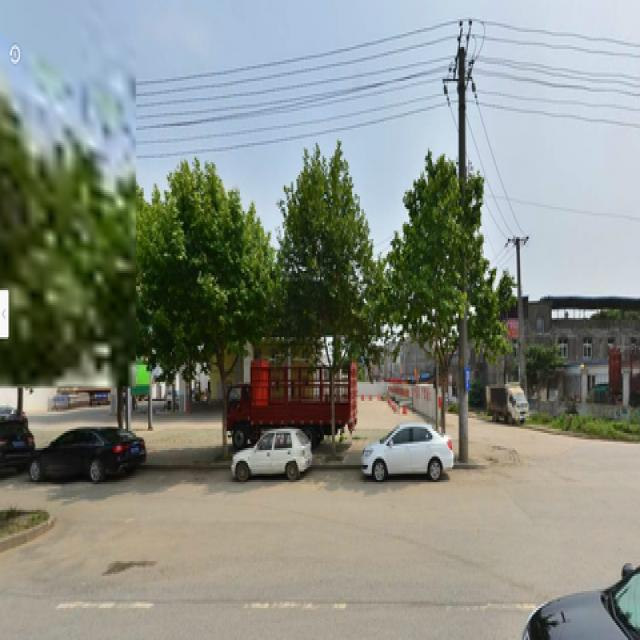meta: (167, 173, 240, 463), (292, 177, 361, 437), (403, 166, 464, 416)
